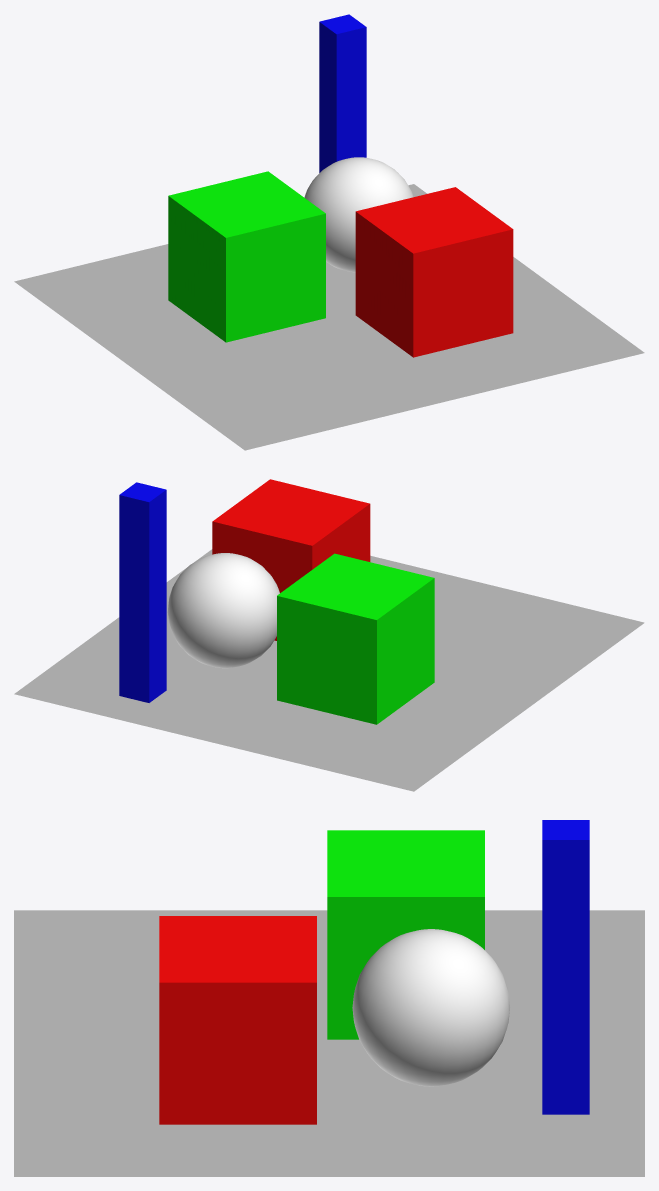
3 renders of one model, top to bottom at view 1: azimuth 30°, elevation 25°; view 2: azimuth 150°, elevation 25°; view 3: azimuth 270°, elevation 25°, orthographic. The views are drawn at different scales.
Visible parts, largest first — view 1: Plane, Cube.001, Cube, Cube.002, Sphere; view 2: Plane, Cube.001, Cube, Sphere, Cube.002; view 3: Plane, Cube, Cube.001, Sphere, Cube.002.
Boxes of the visible parts, x1,y1,x2,y2 form: Plane: (14,184,644,450); Cube.001: (168,171,325,342); Cube: (355,187,513,357); Cube.002: (319,14,366,172); Sphere: (304,157,413,272); Plane: (14,549,644,791); Cube.001: (277,553,434,724); Cube: (212,479,370,640); Sphere: (167,553,279,668); Cube.002: (119,482,166,702); Plane: (14,910,644,1176); Cube: (159,916,316,1124); Cube.001: (327,830,484,1039); Sphere: (352,929,509,1086); Cube.002: (542,820,589,1114).
Size of the model in its own units: 8 by 3.93 by 8.
